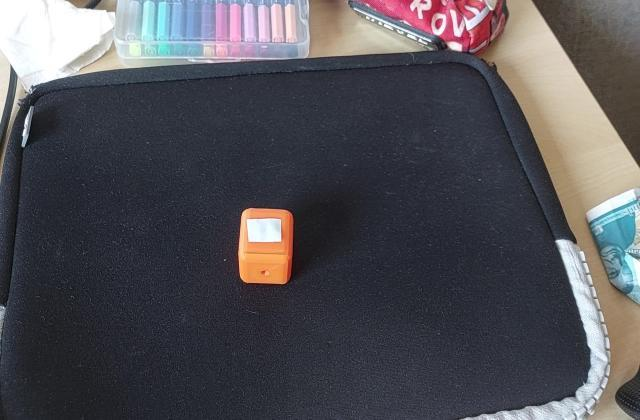sticker: (237, 206, 294, 286)
white: (244, 216, 285, 248)
